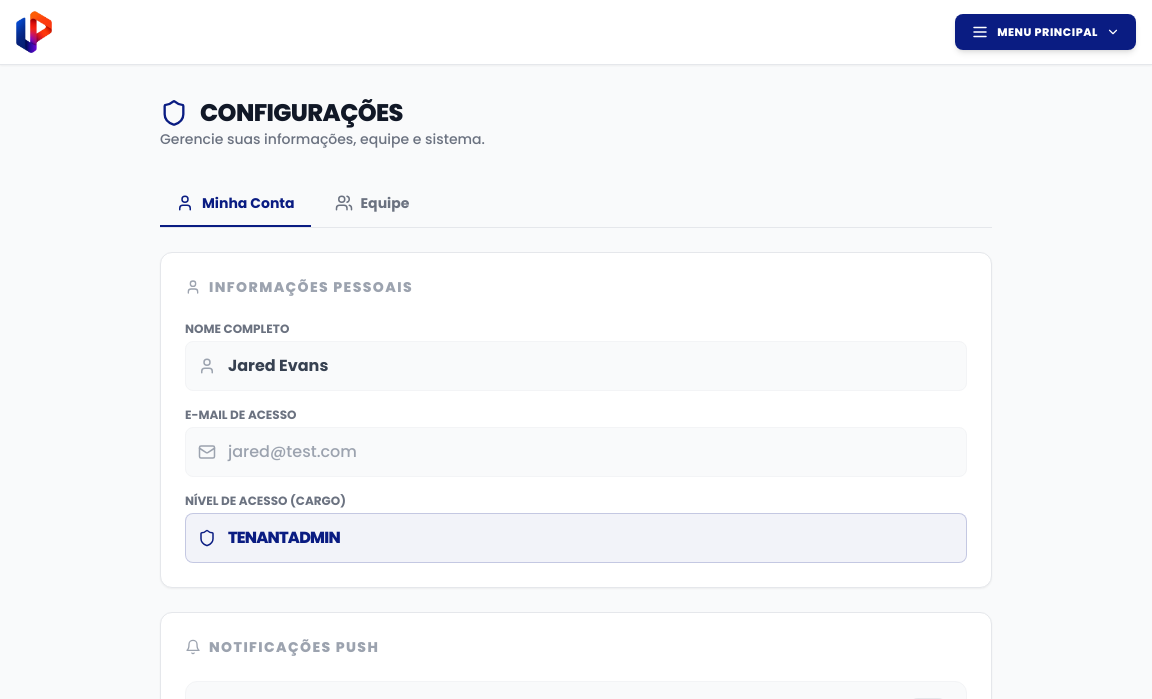
Test case: SettingsPage › SettingsPage - Tabs & Team Management (QA RED) › T08 - deve bloquear os botões de ação para o único TenantAdmin do tenant
Click the tab "Equipe" at (372, 204), box [318, 181, 425, 227]
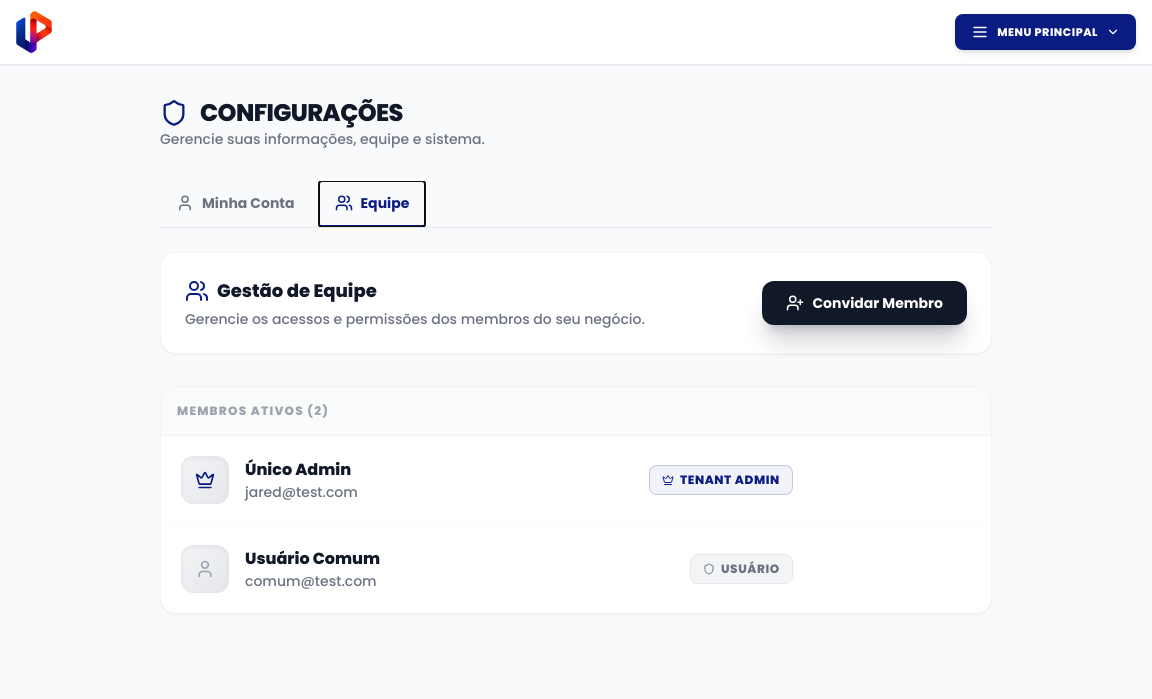
Now the text "Único Admin" is shown, box [245, 458, 351, 482]
